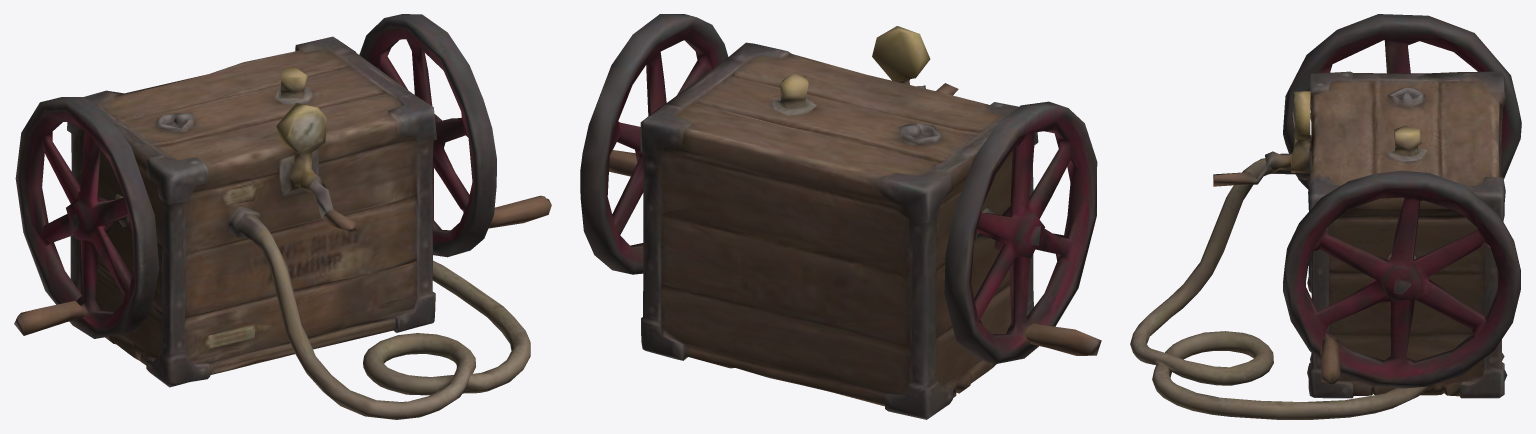
The model's file is air_pump.glb.
The picture shows the model from 3 angles, left to right: view 1: azimuth 30°, elevation 25°; view 2: azimuth 150°, elevation 25°; view 3: azimuth 270°, elevation 25°; orthographic projection. The views are drawn at different scales.
Parts seen in each view (by area): view 1: tripo_node_5314a032-38d3-4fd2-acc4-a2f5cacd5d2e; view 2: tripo_node_5314a032-38d3-4fd2-acc4-a2f5cacd5d2e; view 3: tripo_node_5314a032-38d3-4fd2-acc4-a2f5cacd5d2e.
Boxes of the visible parts, bbox=[...] form: tripo_node_5314a032-38d3-4fd2-acc4-a2f5cacd5d2e: bbox=[14, 14, 551, 419]; tripo_node_5314a032-38d3-4fd2-acc4-a2f5cacd5d2e: bbox=[580, 14, 1101, 419]; tripo_node_5314a032-38d3-4fd2-acc4-a2f5cacd5d2e: bbox=[1130, 14, 1521, 419].
Bounding box in the file's own units: 0.9764 × 0.4877 × 0.7044.
1 material, 1 textured.
